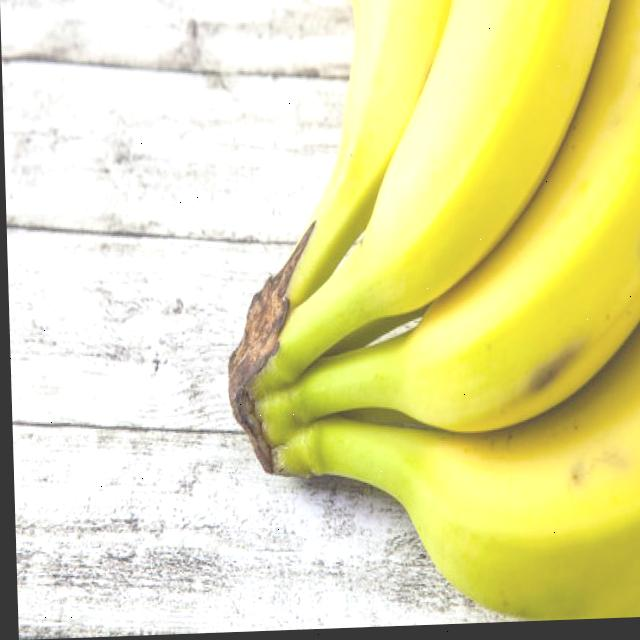banana: (217, 0, 640, 632)
